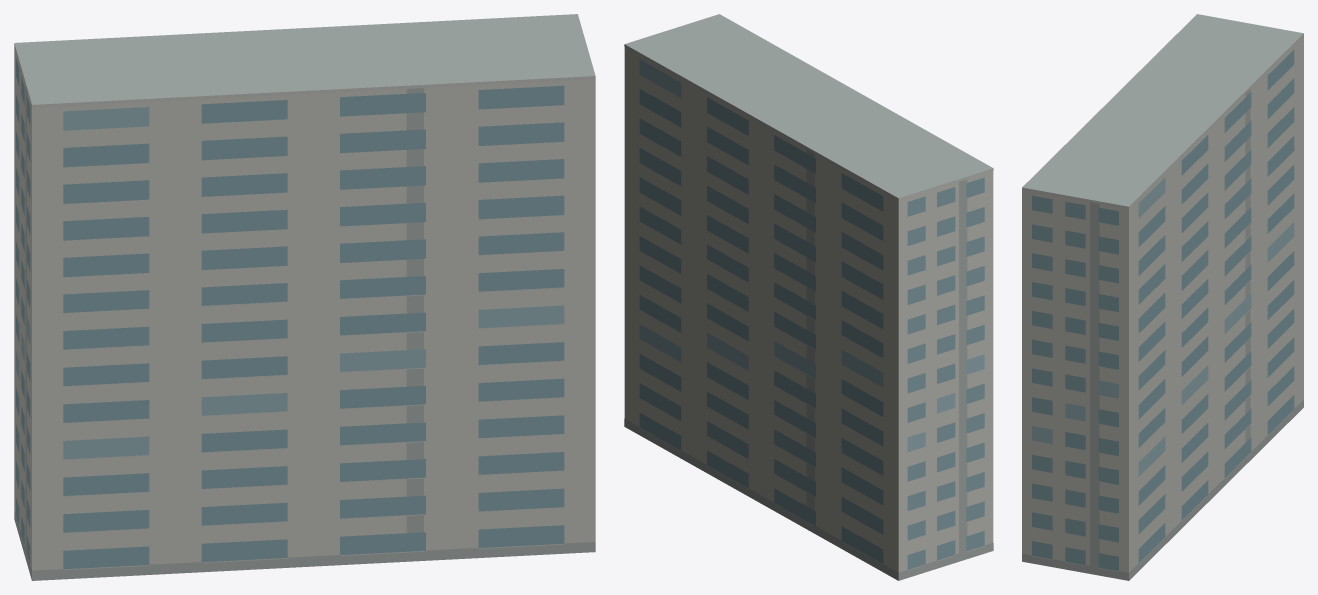
The model's file is residential-3096ad98-521c-4cba-9773-bbc89d2e1f1e.glb.
3 views of the same model, side by side, from view 1: azimuth 30°, elevation 25°; view 2: azimuth 150°, elevation 25°; view 3: azimuth 270°, elevation 25° (orthographic). The views are drawn at different scales.
Parts seen in each view (by area): view 1: residential-3096ad98-521c-4cba-9773-bbc89d2e1f1e.tmp; view 2: residential-3096ad98-521c-4cba-9773-bbc89d2e1f1e.tmp; view 3: residential-3096ad98-521c-4cba-9773-bbc89d2e1f1e.tmp.
Part boxes in pixels (<box>): residential-3096ad98-521c-4cba-9773-bbc89d2e1f1e.tmp: <box>14,14,595,580</box>; residential-3096ad98-521c-4cba-9773-bbc89d2e1f1e.tmp: <box>624,14,993,580</box>; residential-3096ad98-521c-4cba-9773-bbc89d2e1f1e.tmp: <box>1022,14,1303,580</box>.
Bounding box in the file's own units: 39.77 × 36 × 24.58.
